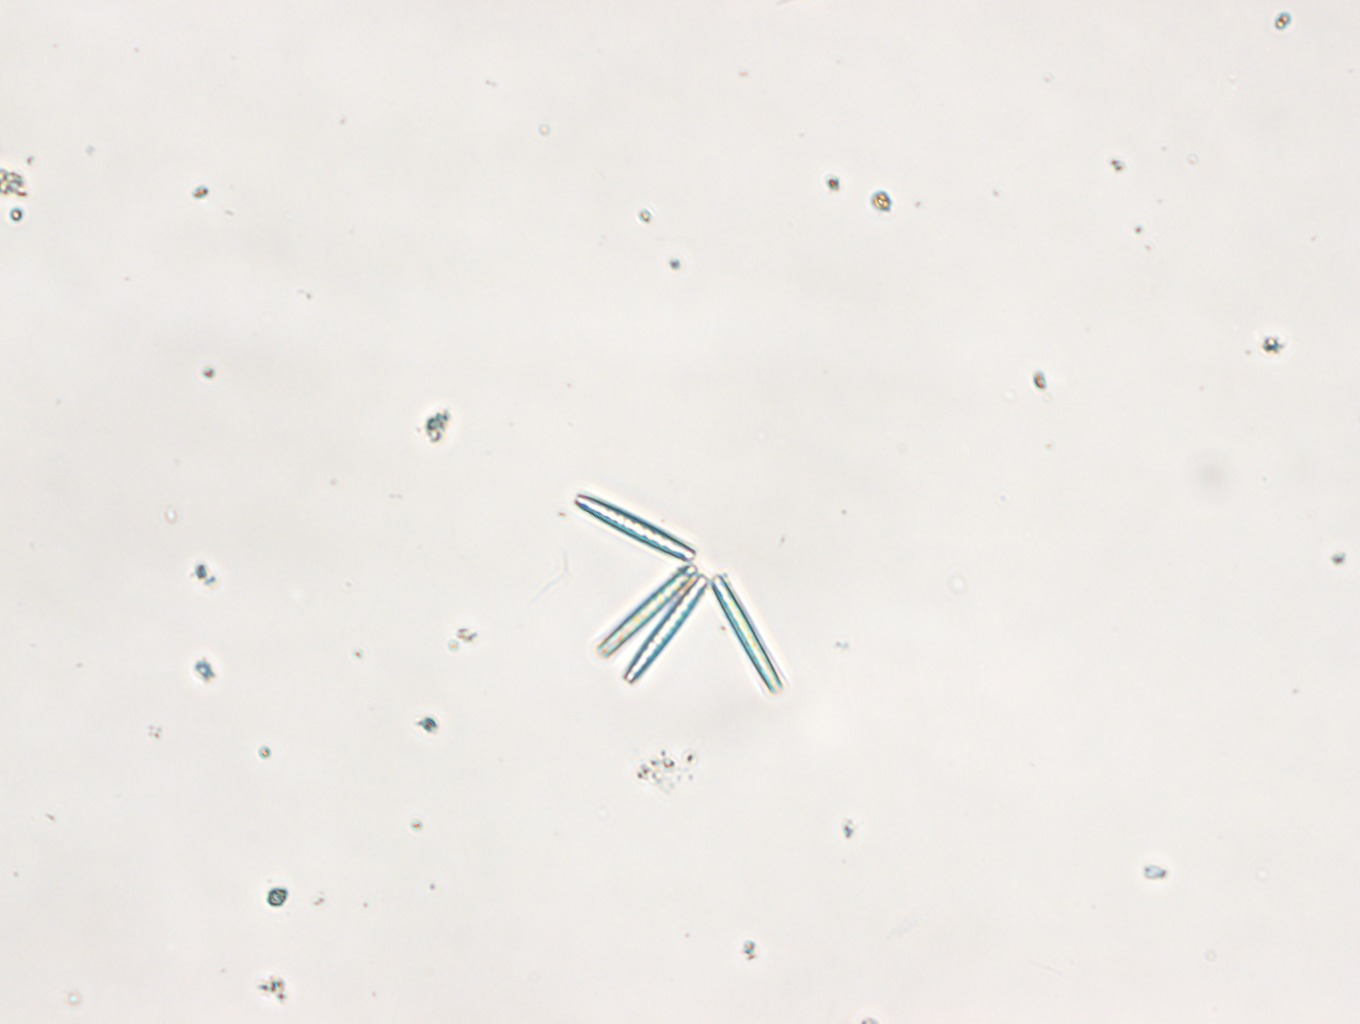thalassionema nitzschioides: (574, 494, 787, 695)
